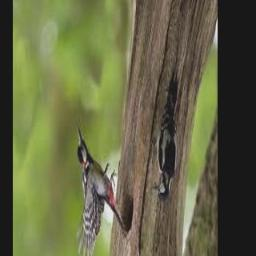Woodpecker: (77, 130, 123, 256), (151, 72, 178, 202)
